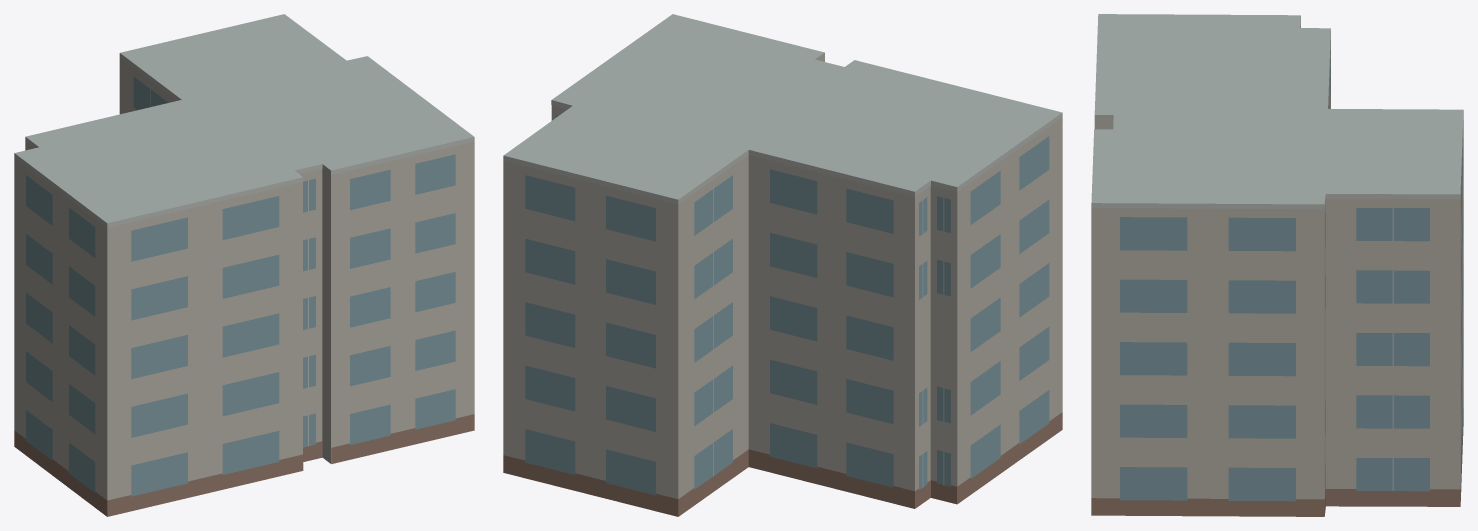
File: survey-upis-32942899.glb
The picture shows the model from 3 angles, left to right: view 1: azimuth 30°, elevation 25°; view 2: azimuth 150°, elevation 25°; view 3: azimuth 270°, elevation 25°; orthographic projection. The views are drawn at different scales.
Visible parts, largest first — view 1: survey-upis-32942899.tmp; view 2: survey-upis-32942899.tmp; view 3: survey-upis-32942899.tmp.
Boxes of the visible parts, x1,y1,x2,y2 form: survey-upis-32942899.tmp: [14, 14, 474, 516]; survey-upis-32942899.tmp: [503, 14, 1062, 516]; survey-upis-32942899.tmp: [1091, 14, 1463, 516].
Bounding box in the file's own units: 20.14 × 15.4 × 16.63.
